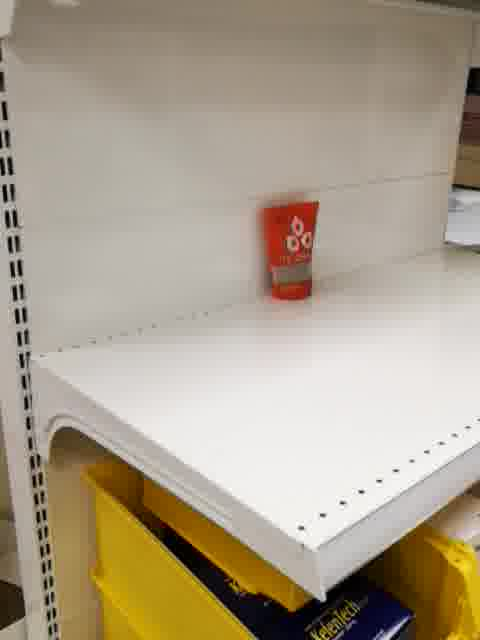whitechia: (257, 197, 323, 302)
